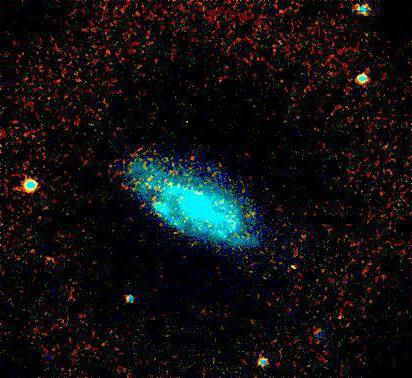star: (280, 252, 310, 282)
